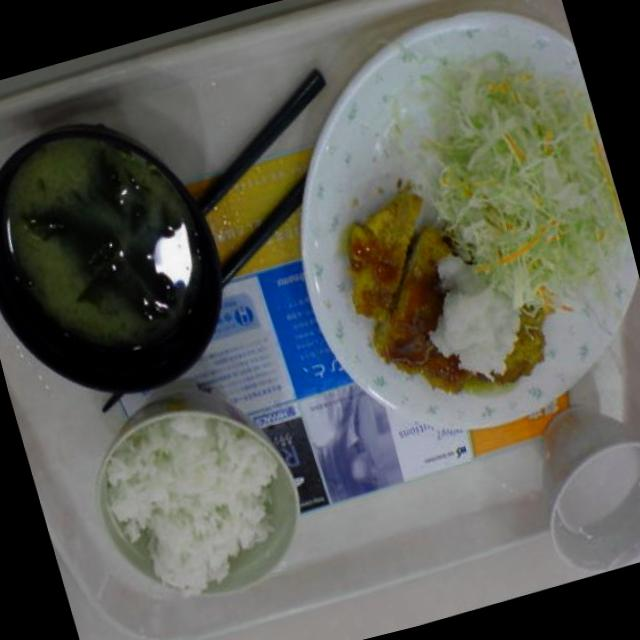Green Salad: (436, 72, 626, 300)
Rice: (118, 416, 274, 584)
